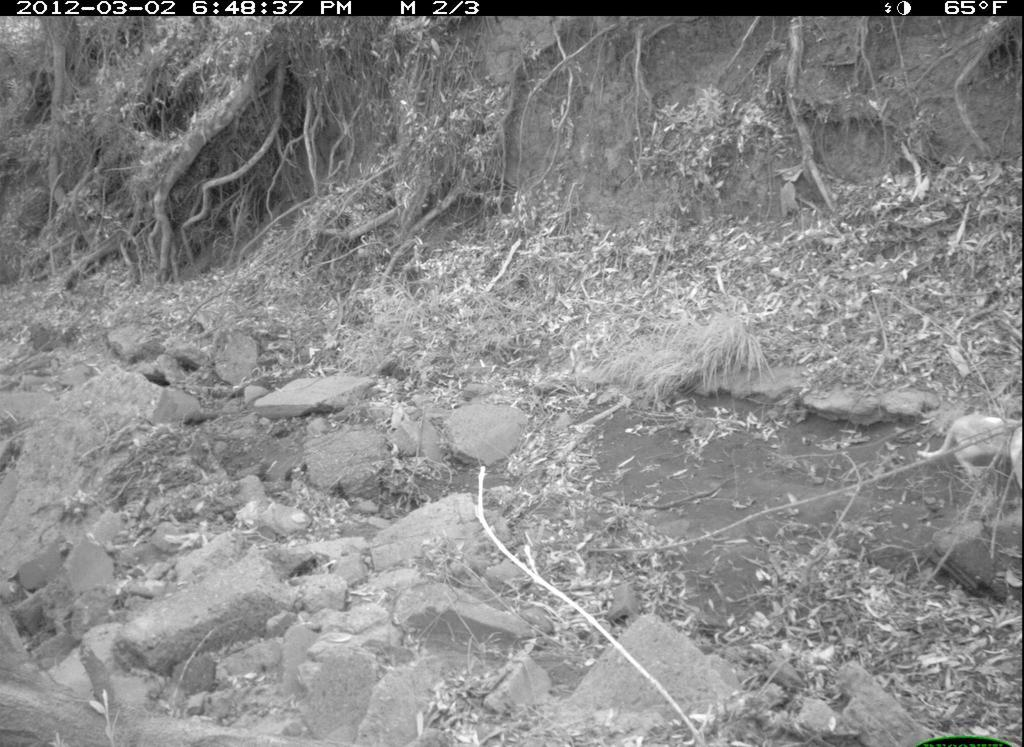cat: (912, 410, 1023, 489)
